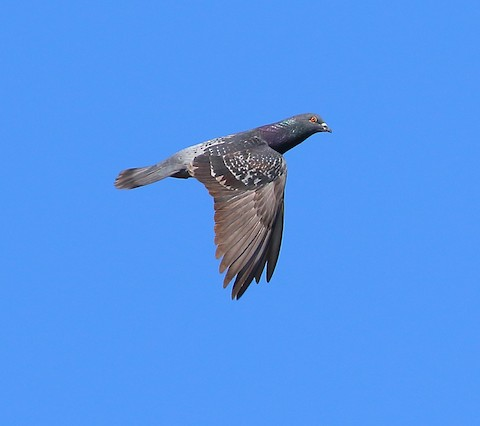pigeon: (108, 102, 347, 303)
